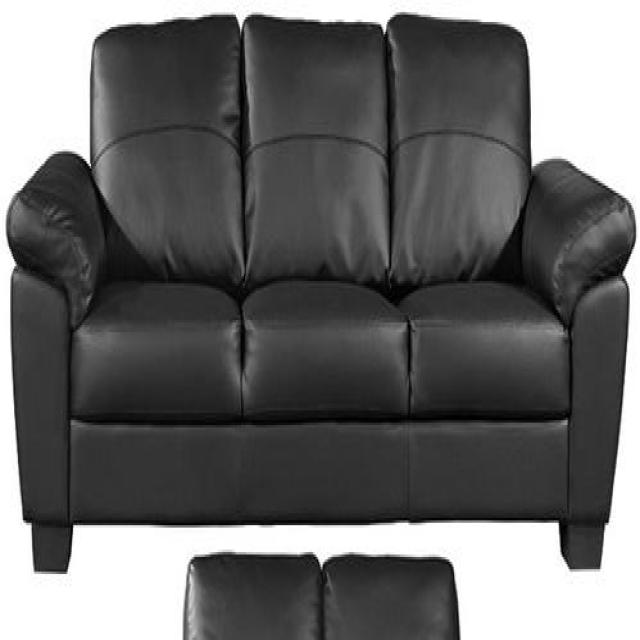sofa: (6, 13, 639, 579)
